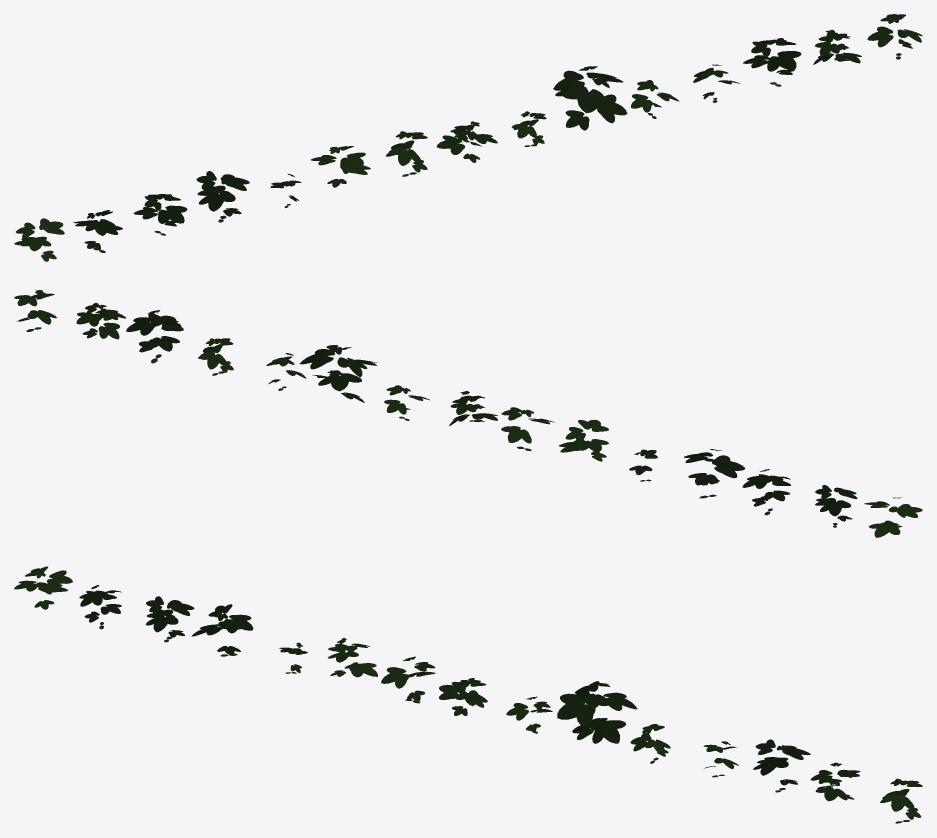
File: ROW_07_SEG1_foliage.dae
3 renders of one model, top to bottom at view 1: azimuth 30°, elevation 25°; view 2: azimuth 150°, elevation 25°; view 3: azimuth 330°, elevation 25°, orthographic.
Visible parts, largest first — view 1: ROW_07_SEG1_foliage; view 2: ROW_07_SEG1_foliage; view 3: ROW_07_SEG1_foliage.
Boxes of the visible parts, x1,y1,x2,y2 form: ROW_07_SEG1_foliage: (14,14,922,261); ROW_07_SEG1_foliage: (14,290,922,537); ROW_07_SEG1_foliage: (14,566,922,823).
Bounding box in the file's own units: 4.46 × 0.3291 × 0.2919.
